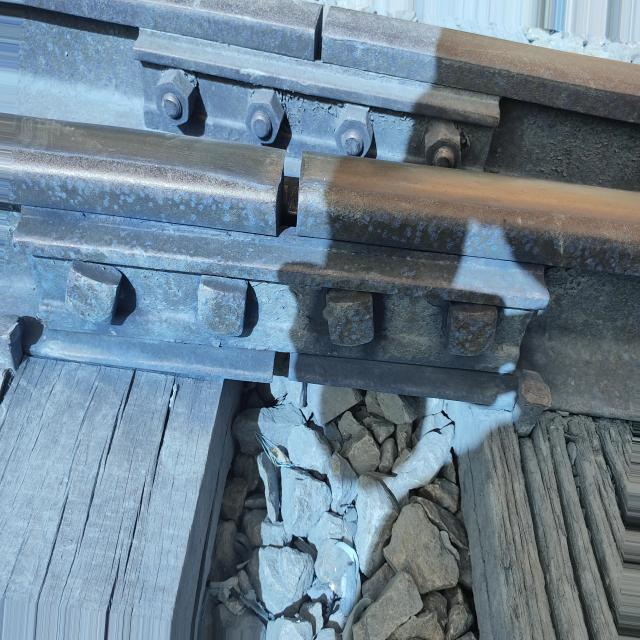crack: (254, 150, 338, 246), (298, 0, 357, 64)
